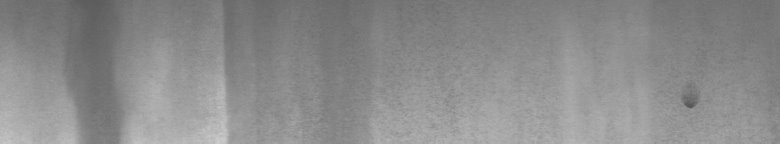fi: (680, 96, 703, 116)
